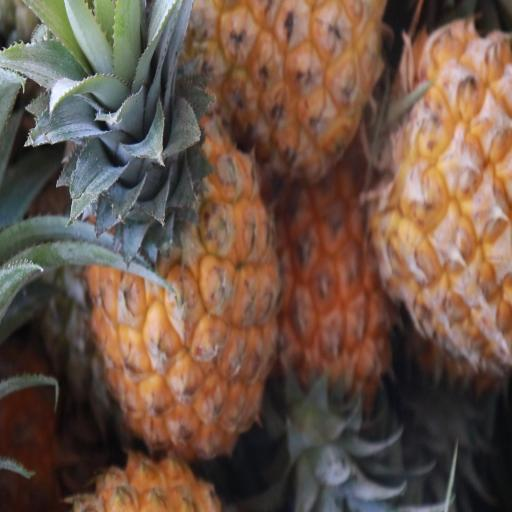Pineapple - v8 v1: (88, 148, 279, 454), (372, 27, 512, 370), (276, 155, 406, 411), (190, 0, 378, 174)
